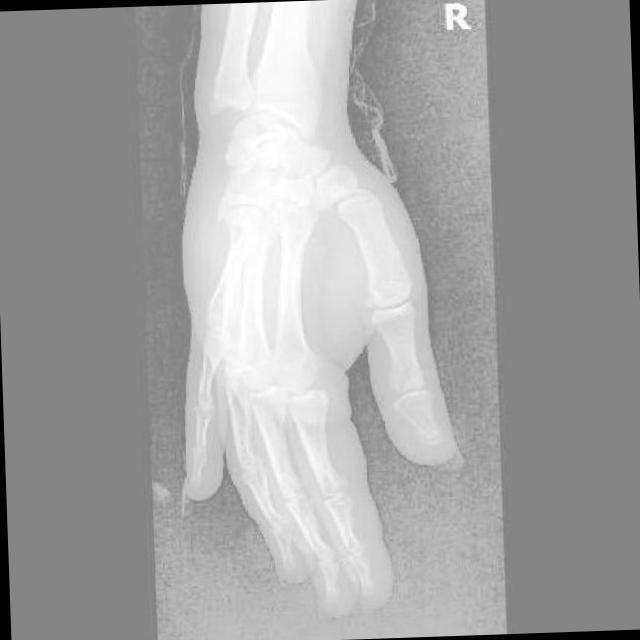bone: (210, 194, 268, 246)
